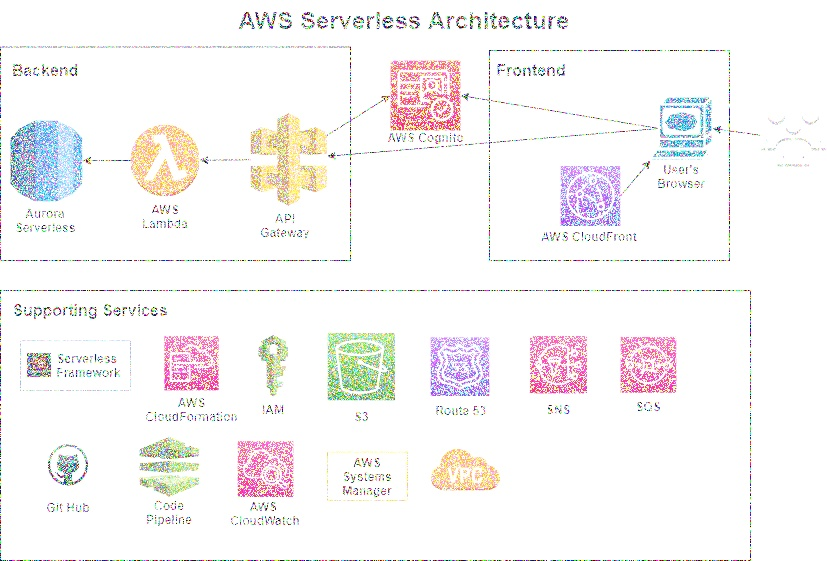API-Gateway: (246, 107, 332, 209)
Cloud Watch: (231, 435, 298, 501)
CloudFormation Stack: (161, 330, 226, 393)
Cloudfront: (558, 161, 625, 229)
CodePipeline: (133, 432, 210, 499)
Cognito: (386, 58, 464, 134)
Dynamo DB: (5, 112, 88, 206)
Github: (35, 431, 103, 498)
IAM: (255, 325, 298, 402)
Lambda: (126, 115, 207, 200)
Route53: (426, 330, 495, 400)
S3: (322, 327, 398, 403)
SNS: (528, 330, 591, 398)
SQS: (613, 331, 683, 397)
Users: (761, 95, 827, 173)
